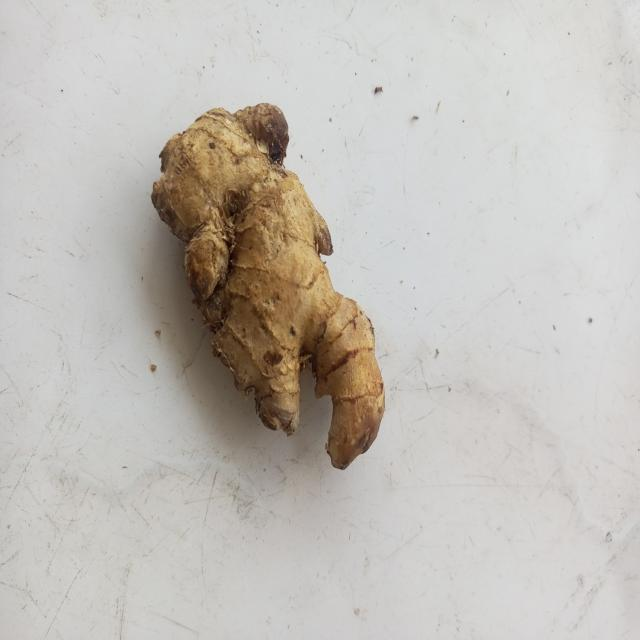ginger: (156, 100, 378, 450)
